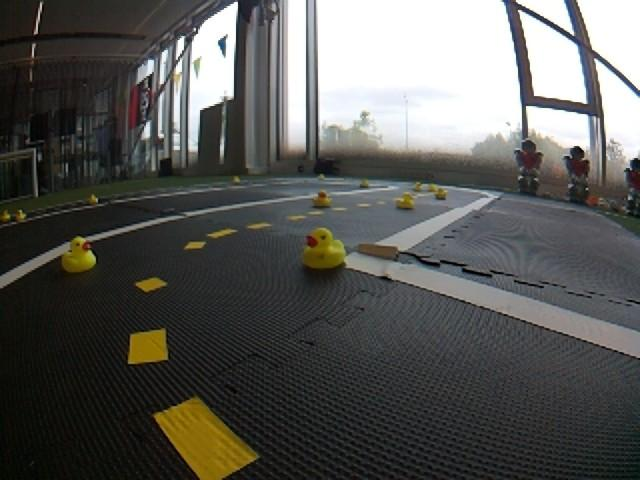Duckies: (300, 228, 347, 271), (60, 238, 95, 272), (312, 190, 332, 207), (397, 191, 416, 208), (436, 188, 446, 198), (0, 211, 11, 220), (15, 211, 25, 220), (88, 194, 98, 203), (361, 179, 369, 187), (428, 184, 436, 191), (414, 182, 421, 189), (318, 173, 324, 179), (233, 177, 240, 182)
